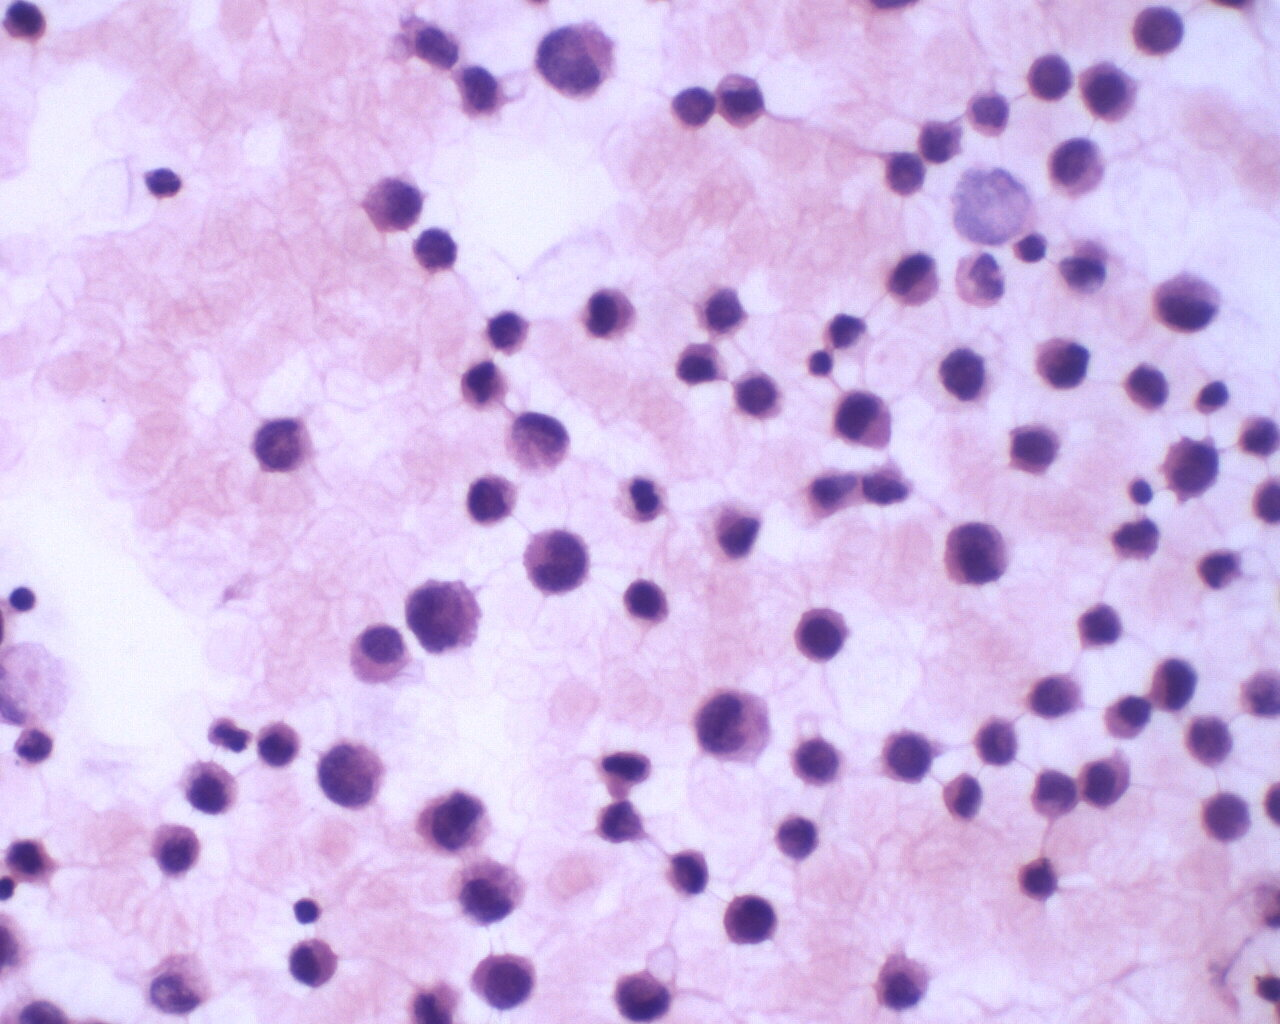ab: (533, 16, 619, 102), (690, 683, 774, 769), (405, 573, 485, 656), (416, 782, 493, 858), (446, 853, 526, 927), (938, 518, 1015, 591), (521, 525, 595, 600), (316, 739, 389, 811), (1160, 429, 1225, 508), (1153, 265, 1228, 332), (249, 409, 319, 478), (832, 385, 899, 453), (1038, 134, 1106, 201), (468, 951, 541, 1013), (871, 949, 939, 1014), (1077, 59, 1140, 127), (178, 755, 241, 820), (717, 891, 784, 952), (1031, 330, 1095, 392), (876, 726, 938, 788), (785, 734, 851, 790), (2, 830, 61, 891), (711, 69, 767, 133), (1131, 2, 1189, 63), (794, 606, 855, 665), (1004, 416, 1063, 476), (579, 285, 639, 344), (1028, 665, 1090, 722), (885, 249, 942, 309), (729, 363, 787, 423), (1149, 652, 1205, 715), (612, 965, 671, 1024), (1077, 748, 1134, 809), (463, 473, 522, 528), (1024, 764, 1079, 821), (250, 717, 307, 771), (588, 795, 643, 847), (1121, 359, 1173, 413), (1027, 50, 1075, 102), (665, 846, 712, 898)
lymph: (290, 893, 326, 928)
meso: (346, 623, 410, 686), (285, 933, 343, 993)
neutro: (142, 161, 184, 203)
